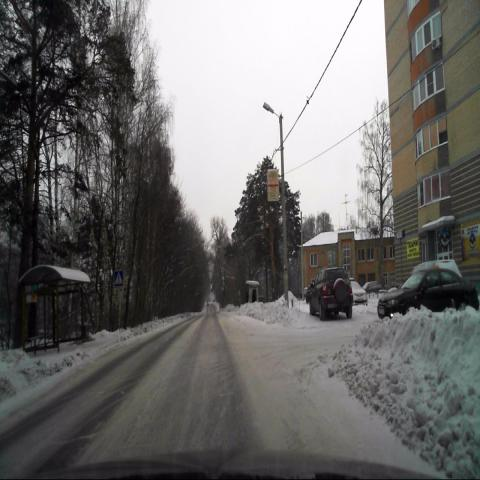5_19_1: (114, 270, 123, 287)
